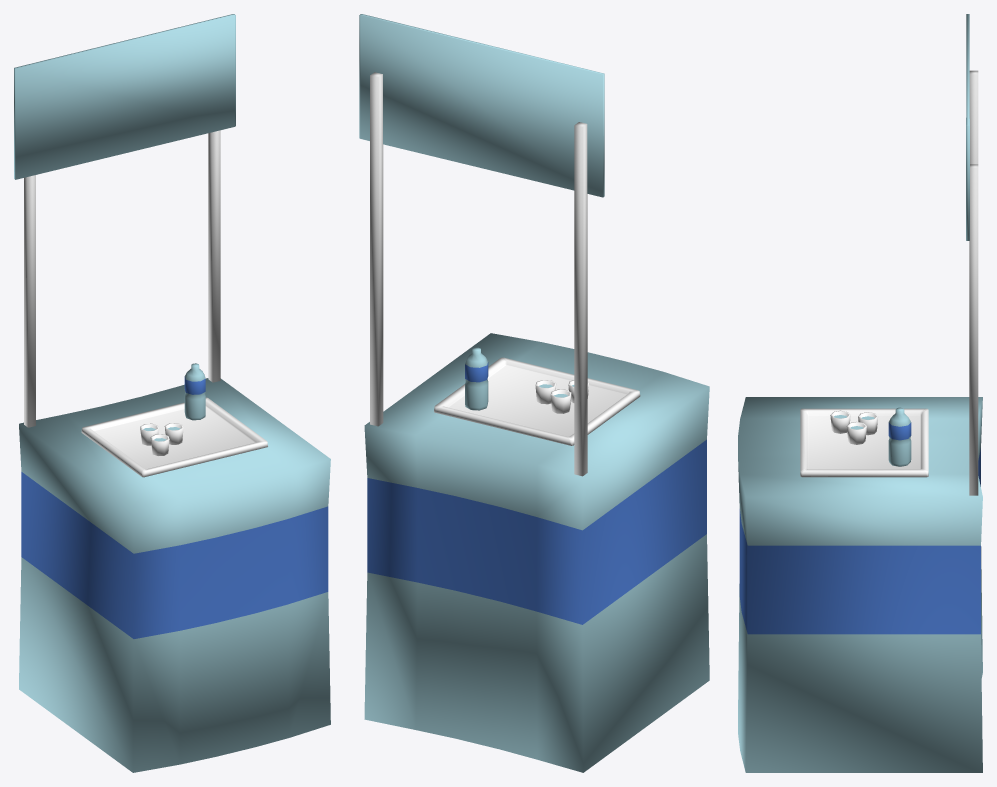
The model's file is SponserTable.fbx.
3 views of the same model, side by side, from view 1: azimuth 30°, elevation 25°; view 2: azimuth 150°, elevation 25°; view 3: azimuth 270°, elevation 25° (orthographic). The views are drawn at different scales.
Visible parts, largest first — view 1: SponserTable_Geo; view 2: SponserTable_Geo; view 3: SponserTable_Geo.
Boxes of the visible parts, box(x1,y1,x2,y2) form: SponserTable_Geo: box(14, 14, 330, 772); SponserTable_Geo: box(359, 14, 709, 772); SponserTable_Geo: box(738, 14, 982, 772).
Bounding box in the file's own units: 409 × 1116 × 379.
